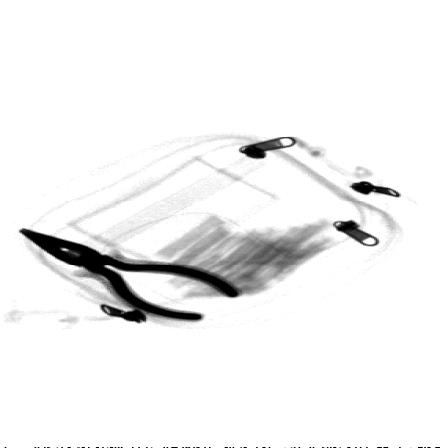Pliers: (16, 226, 243, 322)
